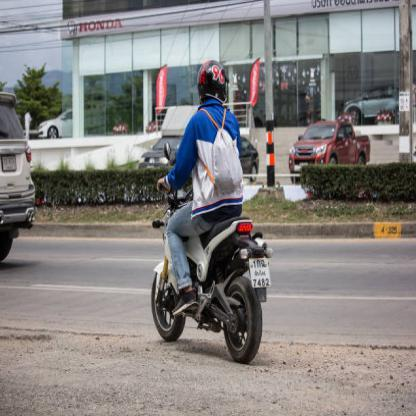Motorcycle: (147, 176, 268, 359)
